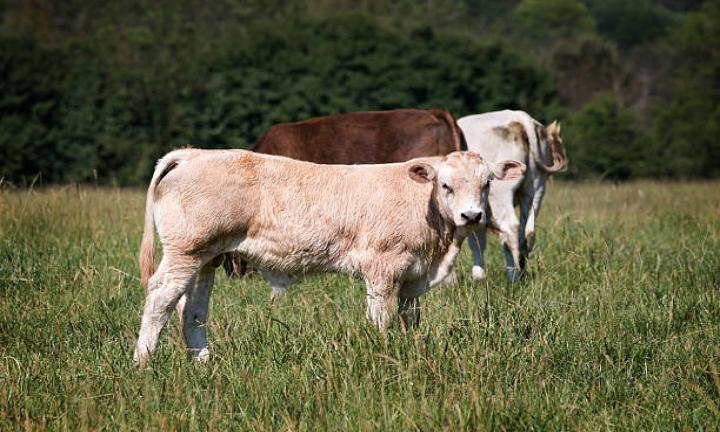Charolais: (134, 148, 525, 361)
